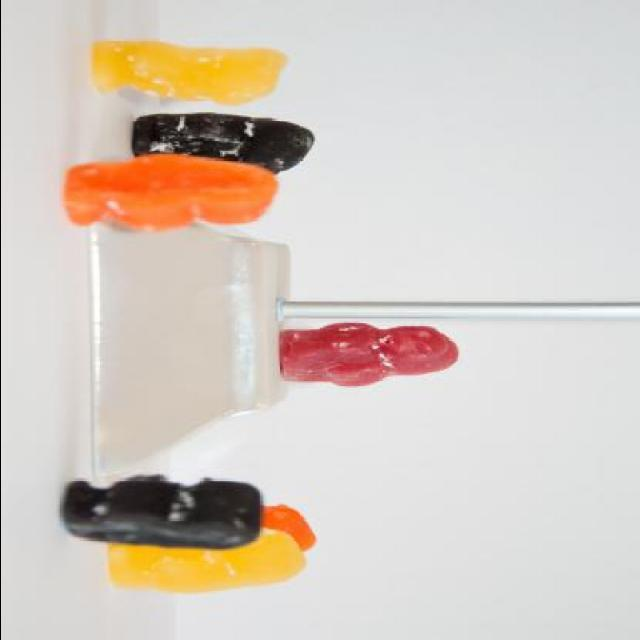Candy: (61, 154, 282, 232), (64, 473, 268, 550), (90, 38, 286, 108), (107, 527, 305, 596), (134, 112, 316, 176), (297, 322, 455, 389), (264, 504, 316, 550)
